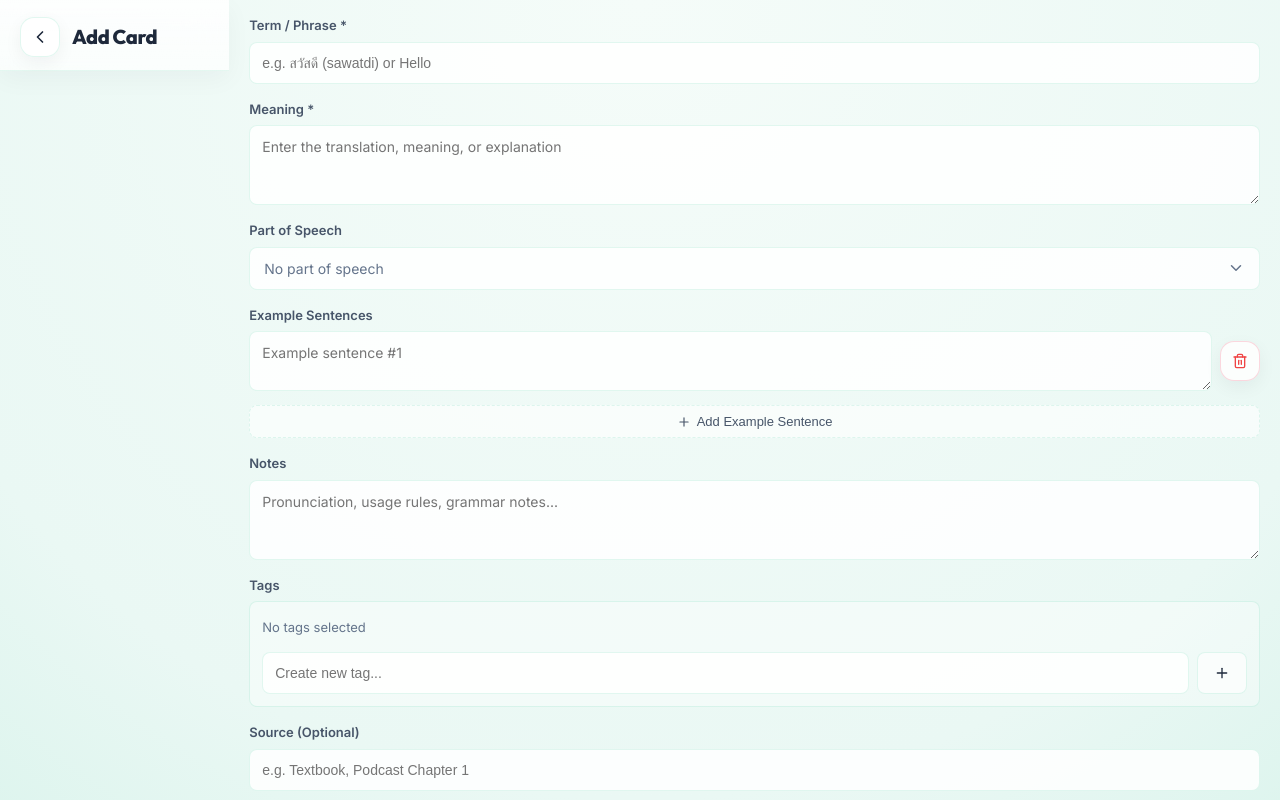
Test: CardForm AI generation › shows an inline error when generation fails
In the field with placeholder "e.g. สวัสดี (sawatdi) or Hello": (755, 62) [249,42,1260,84], type "hello"
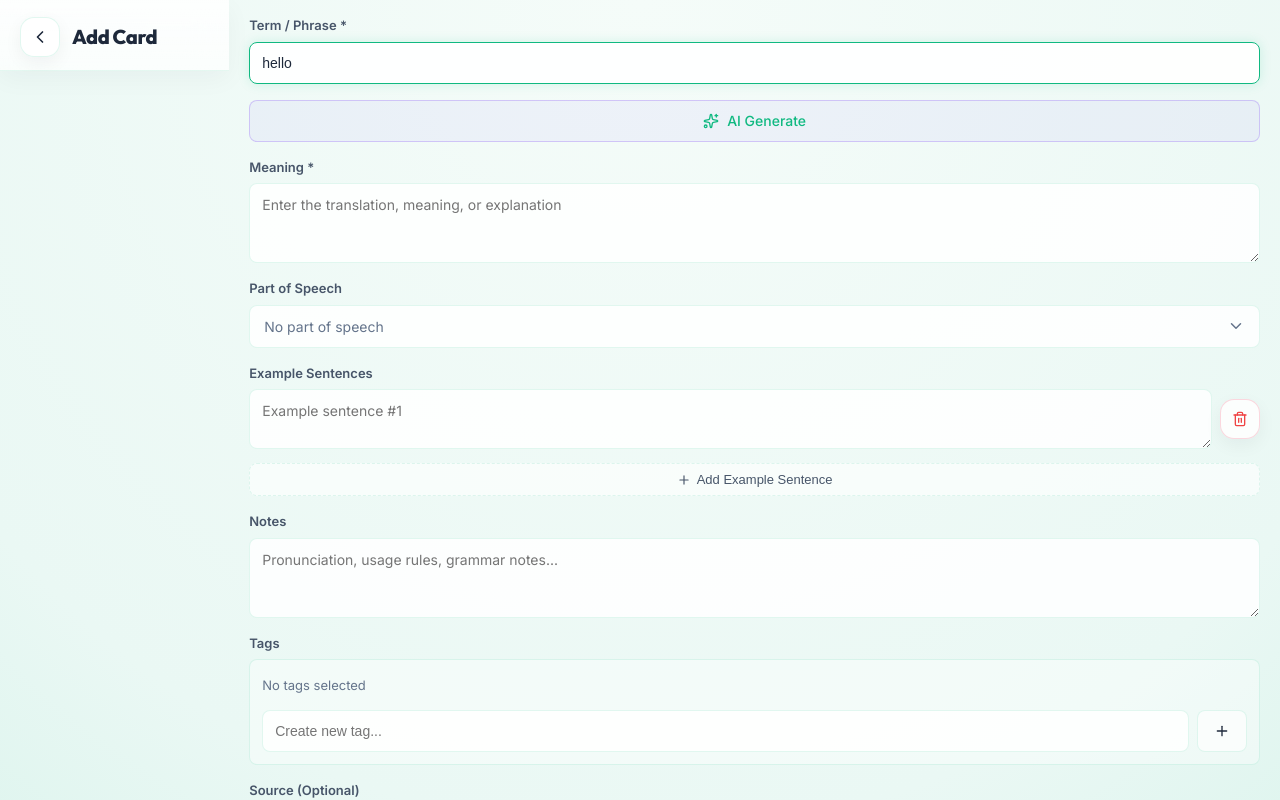
Click the button "AI Generate": (755, 120) [249,100,1260,142]
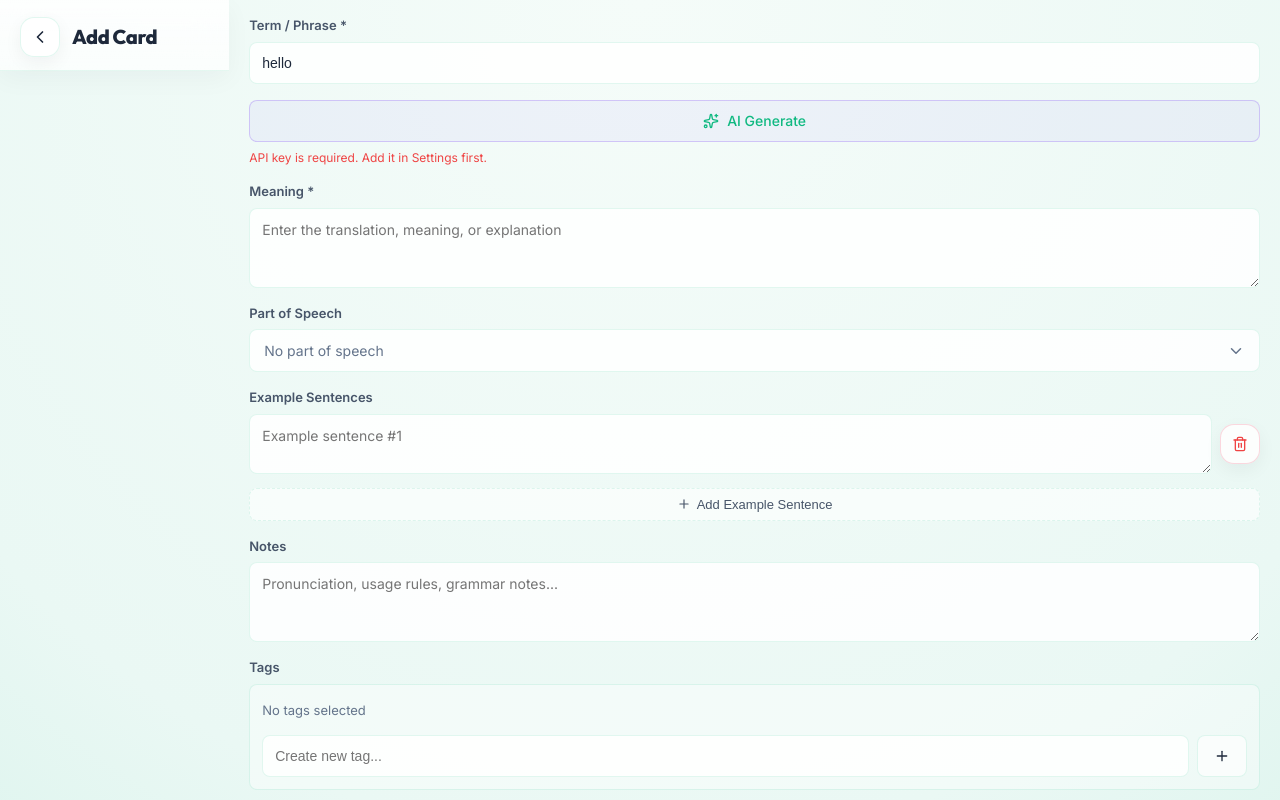
Now the text "API key is required. Add it in Settings first." is shown, box [249,150,487,164]
